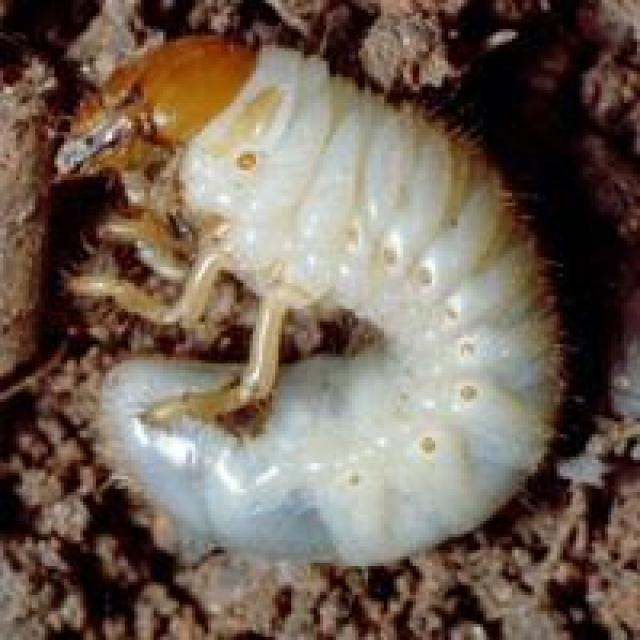Grub-Adult-: (61, 37, 572, 573)
